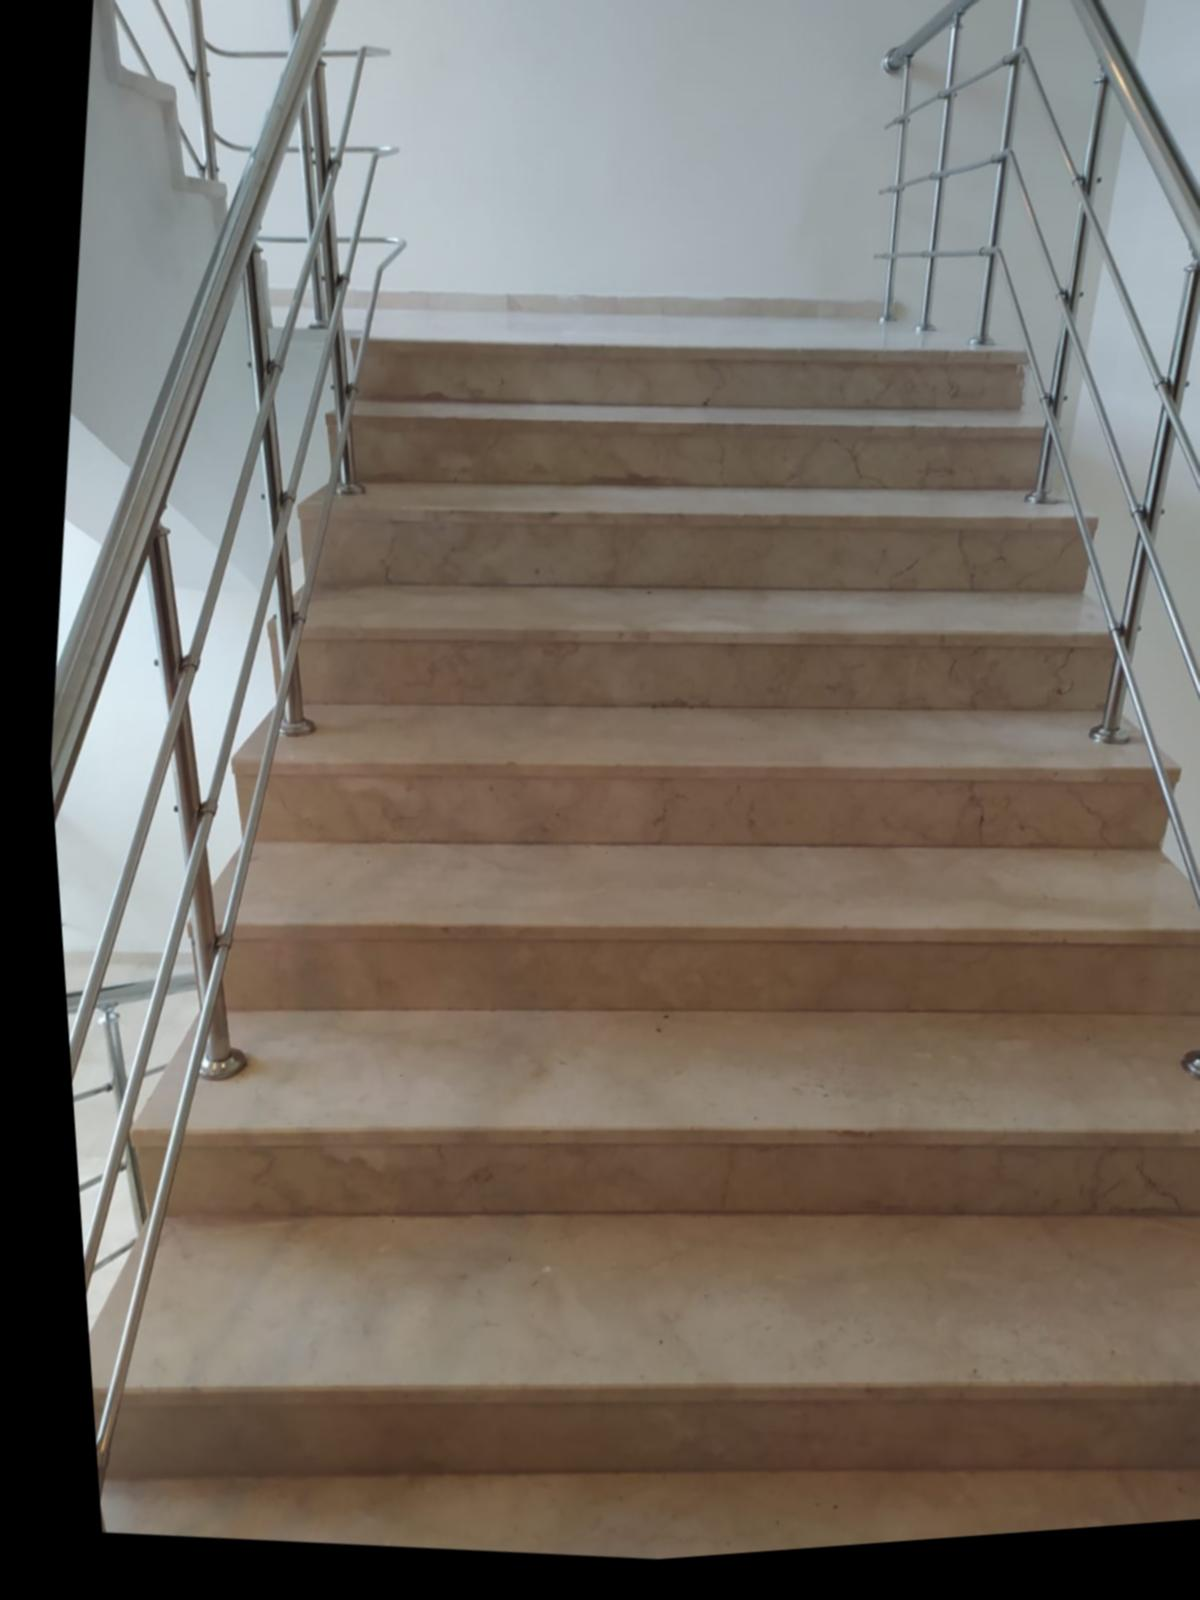Bench: (16, 243, 1200, 1600)
